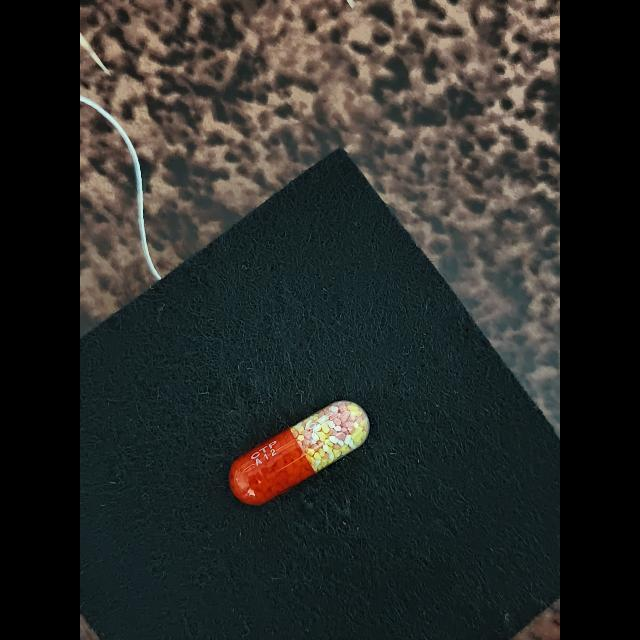Intact Capsule: (229, 400, 370, 505)
